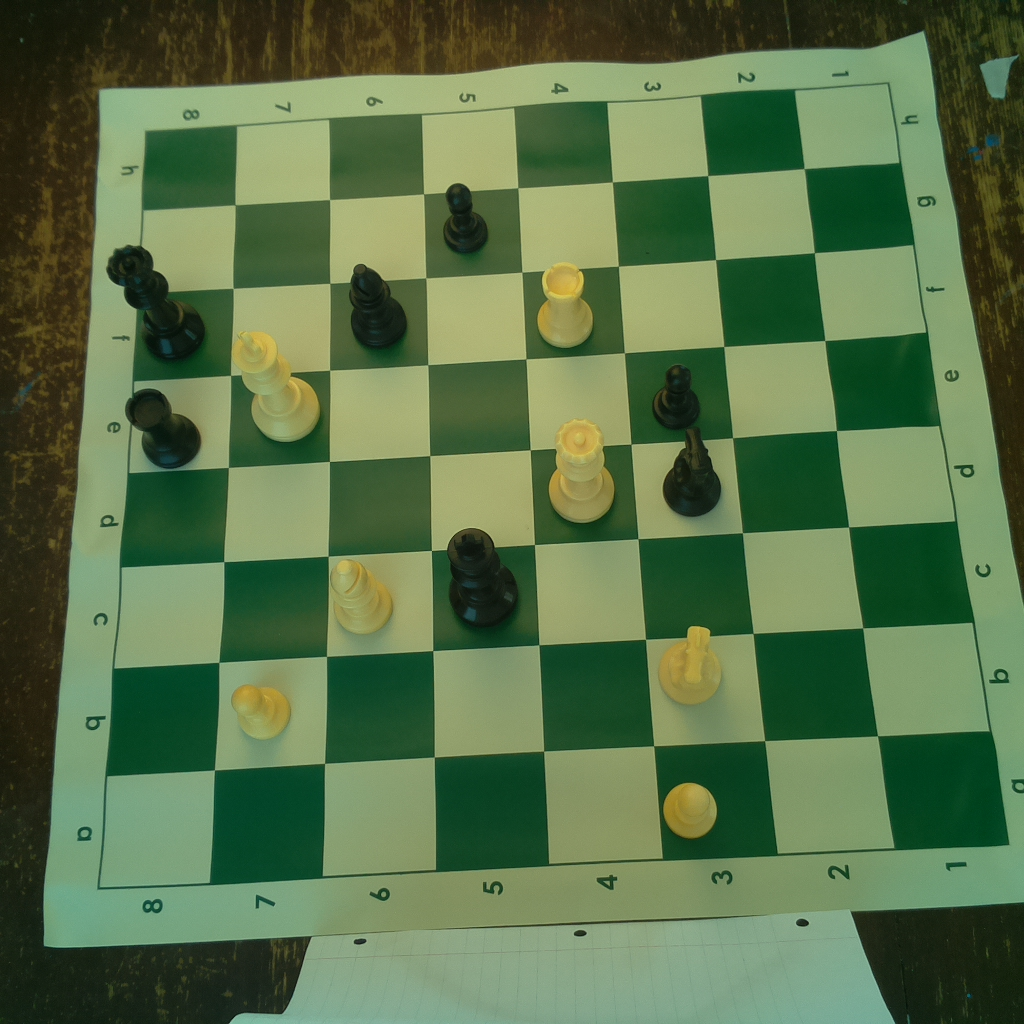black_bishop: (345, 261, 412, 351)
black_king: (440, 519, 525, 631)
black_knight: (651, 426, 724, 519)
black_pawn: (649, 358, 702, 431), (440, 180, 490, 254)
black_queen: (102, 241, 207, 365)
black_rook: (121, 384, 203, 470)
file_a: (98, 732, 1011, 888)
file_b: (105, 622, 994, 775)
file_c: (115, 522, 976, 667)
file_d: (120, 425, 960, 570)
file_e: (125, 334, 940, 473)
file_f: (132, 245, 927, 384)
file_g: (136, 164, 916, 296)
file_h: (142, 84, 901, 213)
outline: (99, 83, 1015, 892)
rank_1: (796, 82, 1010, 851)
rank_2: (702, 86, 894, 853)
rank_3: (606, 93, 781, 862)
rank_4: (514, 101, 666, 864)
rank_5: (421, 108, 551, 870)
rank_6: (321, 114, 436, 873)
rank_7: (212, 119, 331, 886)
rank_8: (99, 125, 237, 887)
white_bishop: (327, 554, 398, 640)
white_king: (224, 323, 324, 443)
white_knight: (657, 622, 727, 708)
white_pawn: (654, 774, 724, 847), (229, 678, 297, 741)
white_queen: (540, 414, 619, 525)
white_rook: (529, 257, 598, 353)
